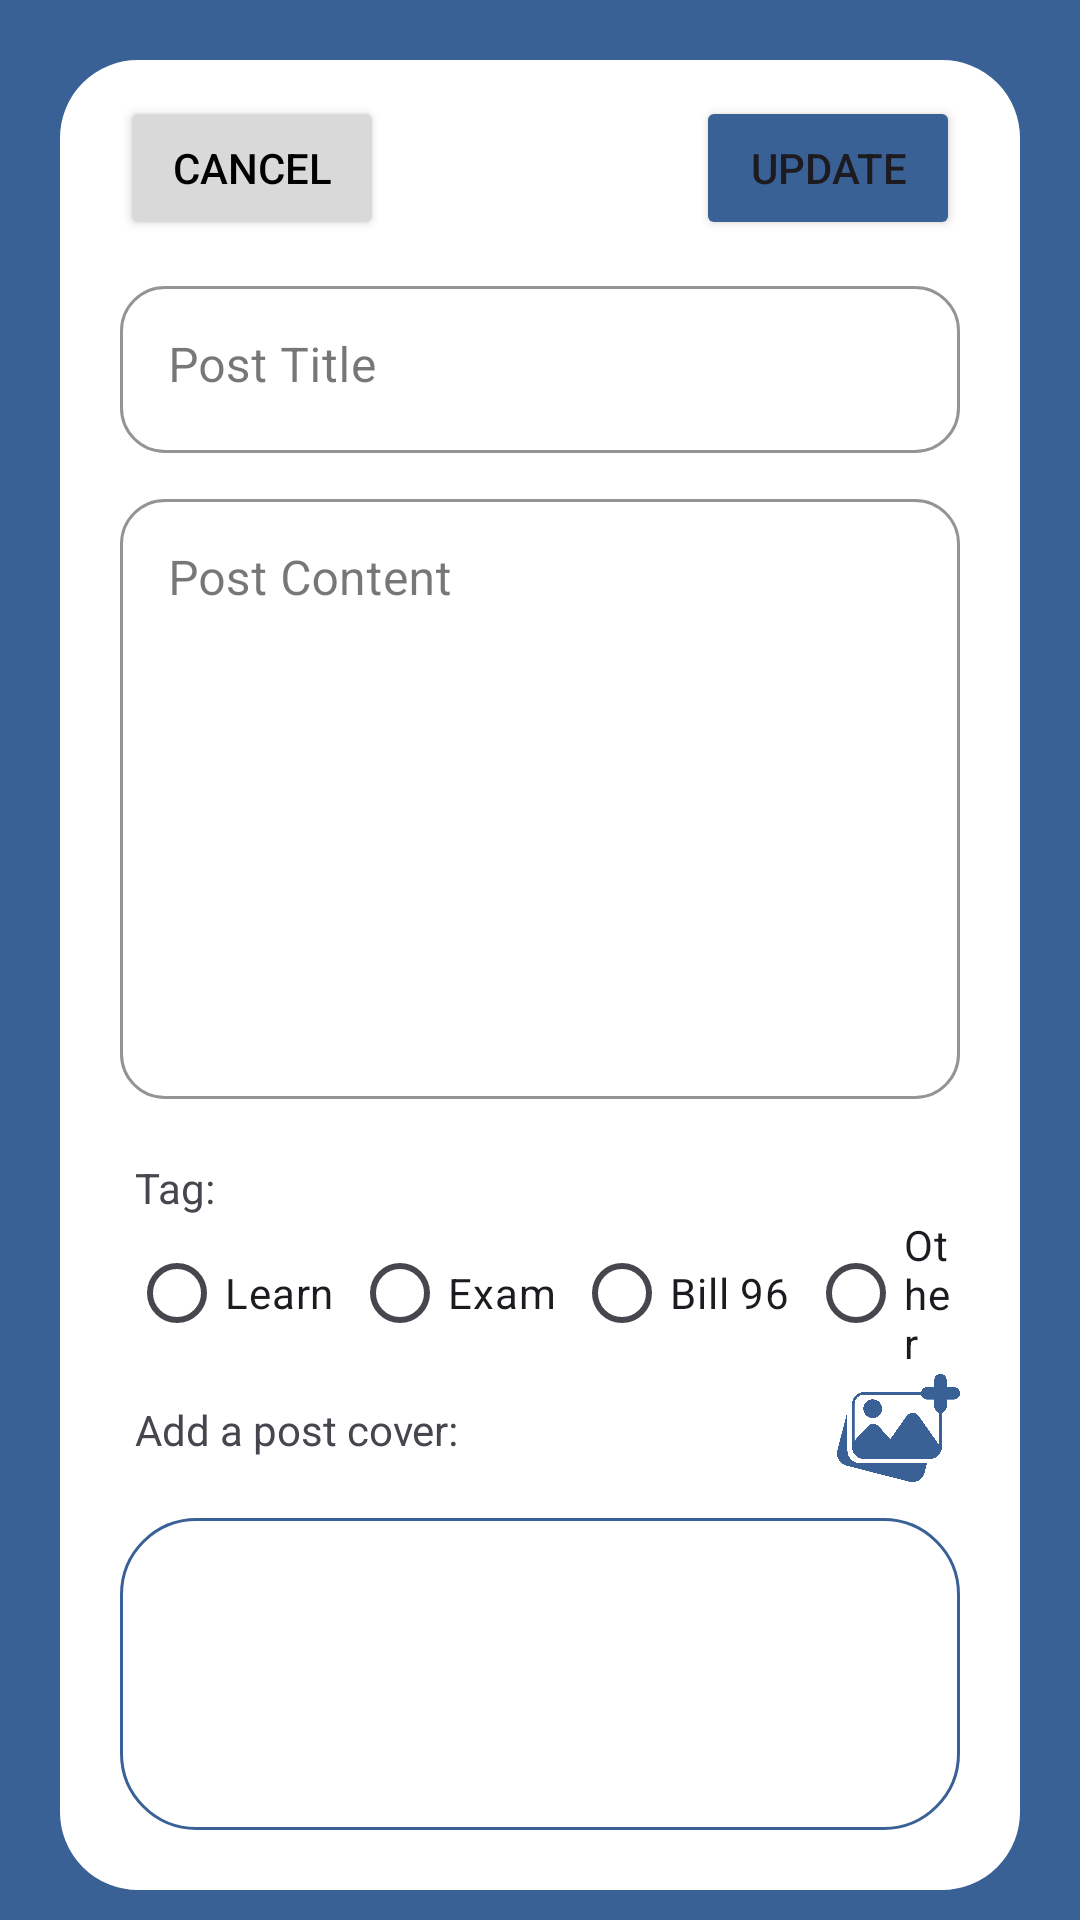

Locate icon controls on the screen. Image size 1080 × 1920, boxes as [x1,y1,x2,y2].
add: [837,1374,960,1482]
